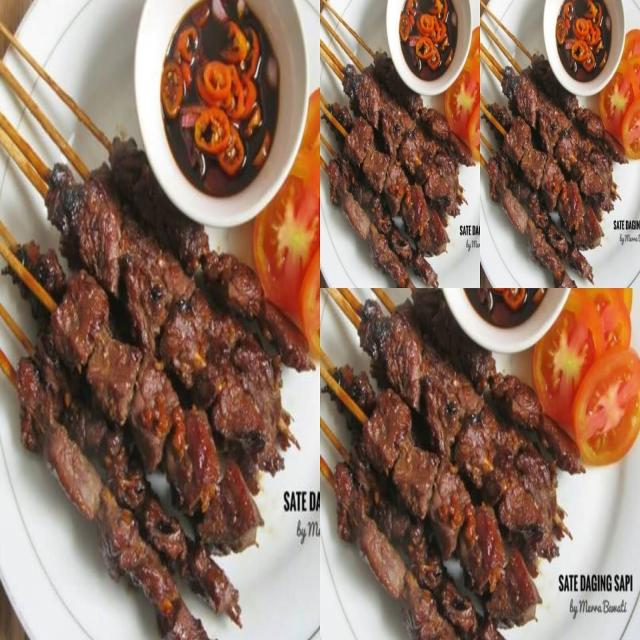Sate: (0, 94, 302, 617), (321, 305, 595, 625), (318, 46, 474, 296), (482, 31, 626, 269)
